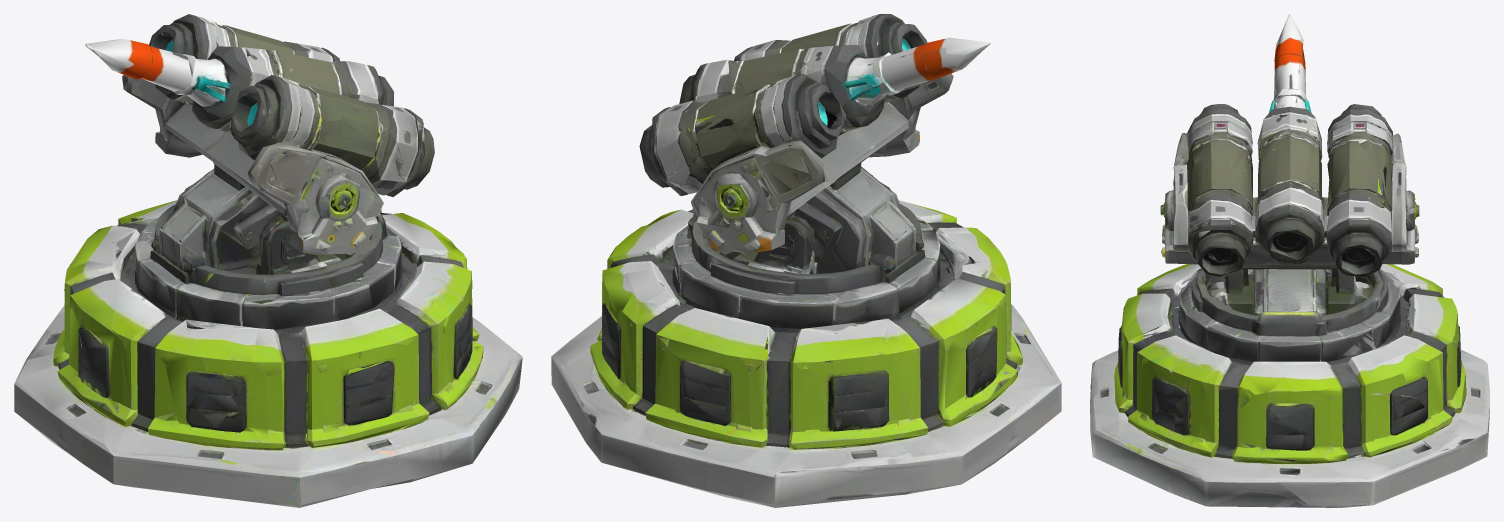
File: turret-m.glb
3 views of the same model, side by side, from view 1: azimuth 30°, elevation 25°; view 2: azimuth 150°, elevation 25°; view 3: azimuth 270°, elevation 25° (orthographic). The views are drawn at different scales.
Bounding box in the file's own units: 1.9 × 1.81 × 1.9.
1 material, 1 textured.
